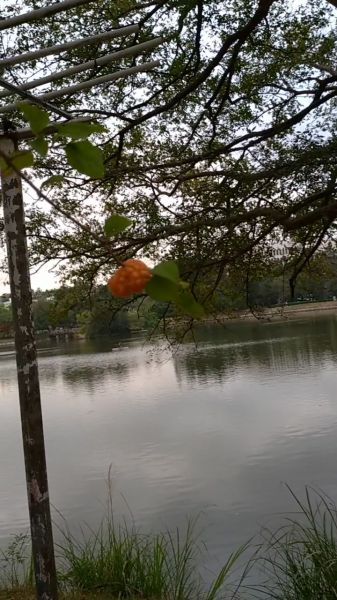eggs: (103, 258, 154, 302)
